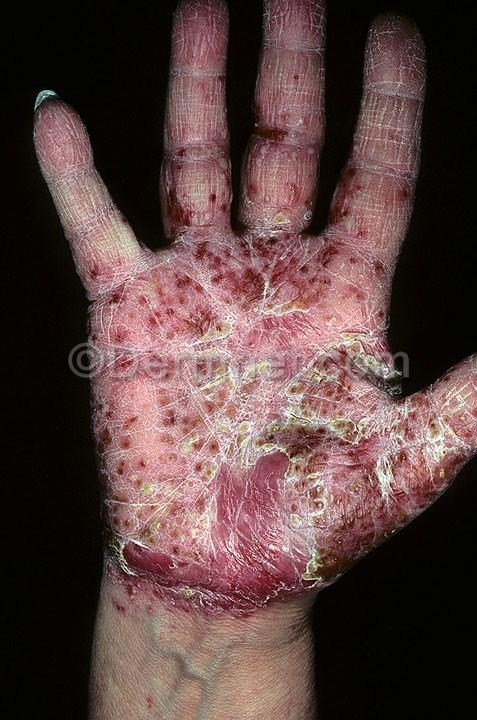Eczema: (102, 385, 313, 580), (231, 244, 380, 353), (316, 430, 417, 560), (82, 276, 219, 354), (152, 36, 245, 144), (210, 161, 325, 243), (336, 142, 407, 258), (251, 36, 317, 151), (366, 34, 433, 140), (162, 170, 229, 269), (62, 199, 130, 271), (411, 384, 477, 451)
